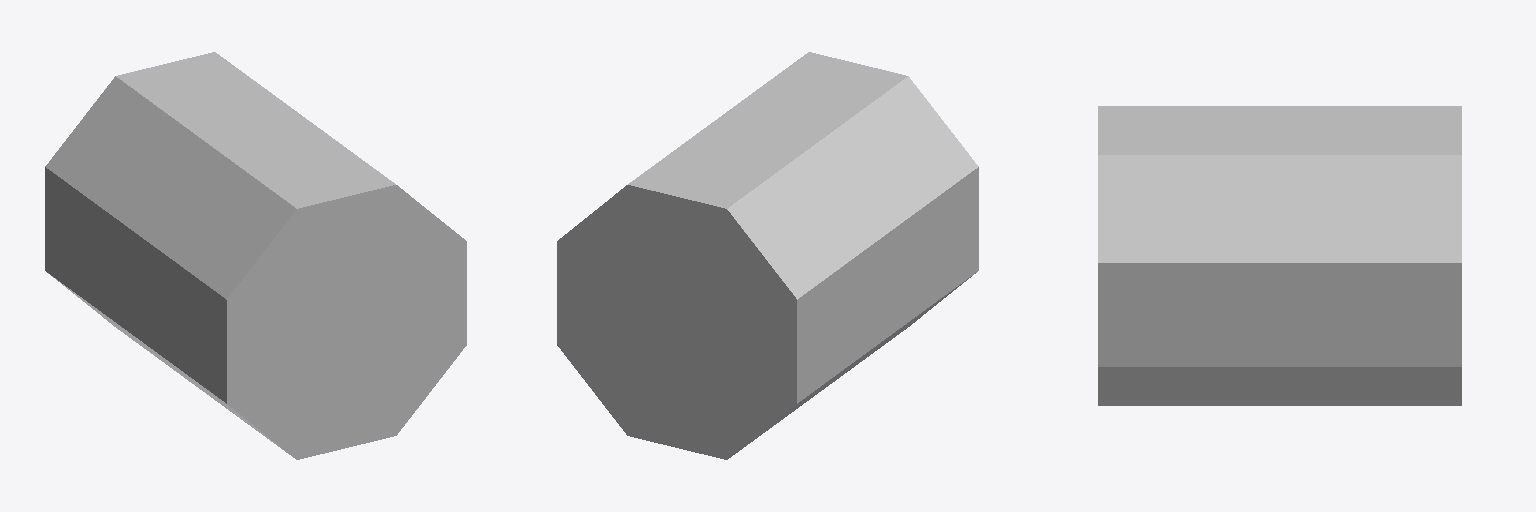
Rendered from icub_simple_collision_r_hip_roll_link.obj.
3 renders of one model, left to right at view 1: azimuth 30°, elevation 25°; view 2: azimuth 150°, elevation 25°; view 3: azimuth 270°, elevation 25°, orthographic.
Visible parts, largest first — view 1: r_hip_2_mesh_Cylinder.019; view 2: r_hip_2_mesh_Cylinder.019; view 3: r_hip_2_mesh_Cylinder.019.
Boxes of the visible parts, x1,y1,x2,y2 form: r_hip_2_mesh_Cylinder.019: [45, 52, 466, 459]; r_hip_2_mesh_Cylinder.019: [557, 52, 978, 459]; r_hip_2_mesh_Cylinder.019: [1098, 106, 1461, 405].
Bounding box in the file's own units: 0.0573 × 0.0573 × 0.075.